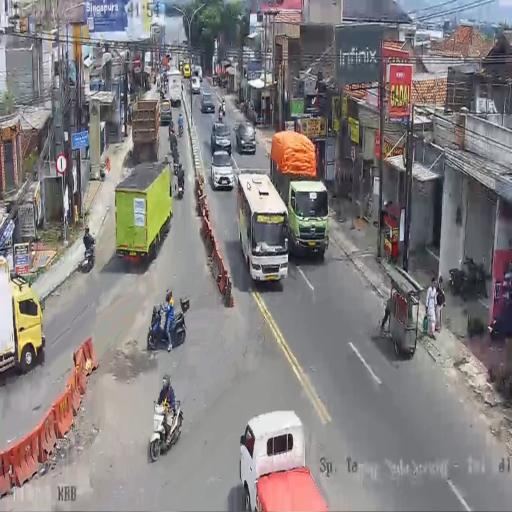3: (115, 160, 174, 263), (235, 171, 287, 282), (0, 260, 44, 379), (130, 96, 160, 163), (167, 66, 182, 108), (143, 50, 154, 86), (178, 54, 183, 71)
car: (284, 177, 330, 258), (210, 148, 234, 190), (234, 121, 256, 155), (210, 122, 232, 156), (200, 90, 215, 112), (160, 99, 172, 125), (190, 76, 201, 95), (183, 63, 191, 78)
truck: (148, 395, 184, 462), (147, 298, 188, 351), (82, 238, 96, 272), (176, 169, 185, 199), (172, 152, 180, 176), (178, 121, 184, 138), (163, 72, 169, 88), (168, 123, 174, 138), (160, 87, 166, 101), (218, 109, 223, 122), (157, 78, 161, 92)
